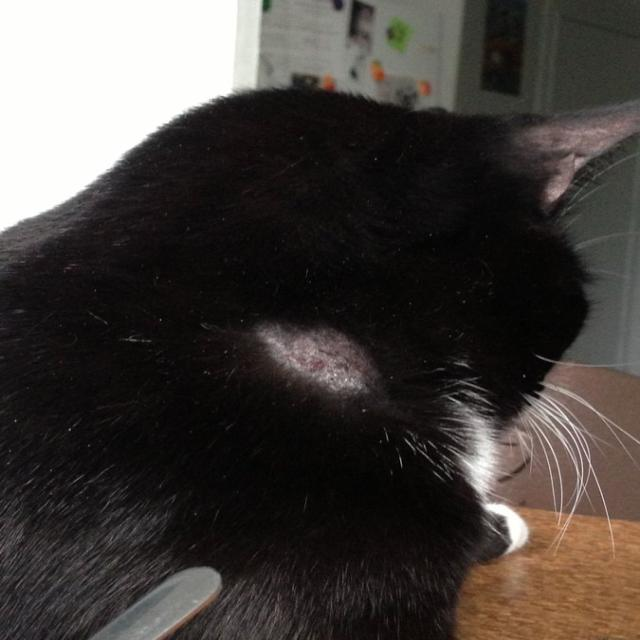hac lao: (238, 289, 400, 467)
